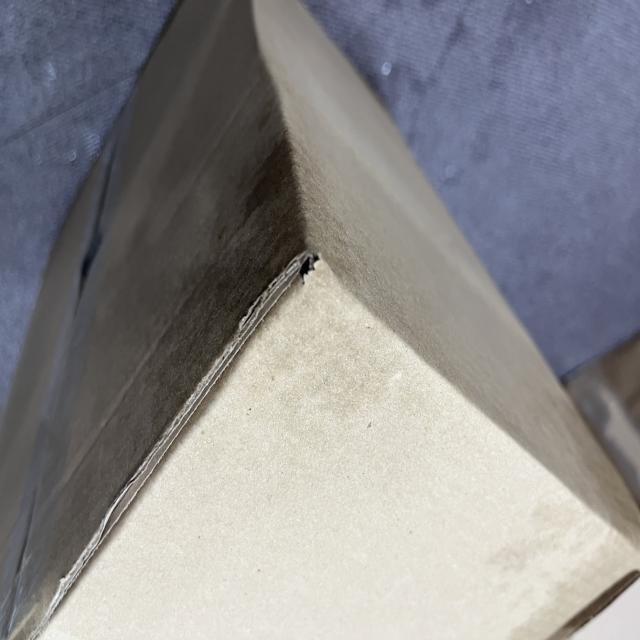wet: (181, 169, 391, 443)
